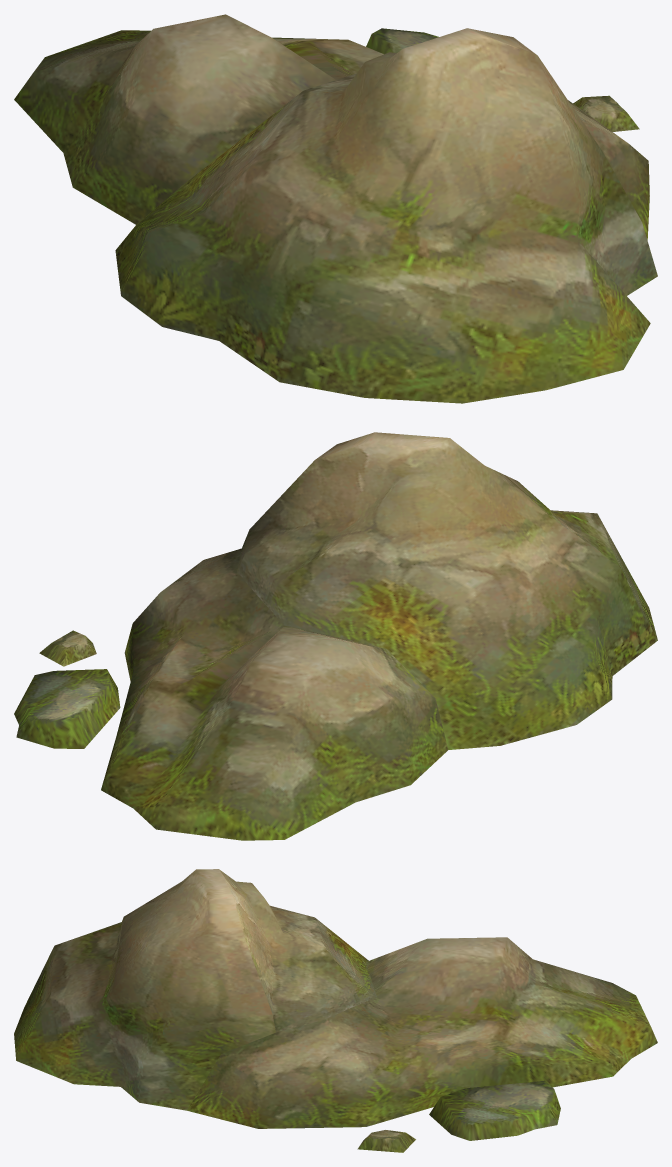
File: Hangzhou_wj_006_1.FBX
3 views of the same model, one above another, from view 1: azimuth 30°, elevation 25°; view 2: azimuth 150°, elevation 25°; view 3: azimuth 270°, elevation 25° (orthographic). The views are drawn at different scales.
Parts seen in each view (by area): view 1: DrawCall_0655; view 2: DrawCall_0655; view 3: DrawCall_0655.
Boxes of the visible parts, box(x1,y1,x2,y2) form: DrawCall_0655: box(14, 14, 657, 403); DrawCall_0655: box(14, 432, 657, 840); DrawCall_0655: box(14, 869, 657, 1152).
Bounding box in the file's own units: 131 × 51.32 × 181.
